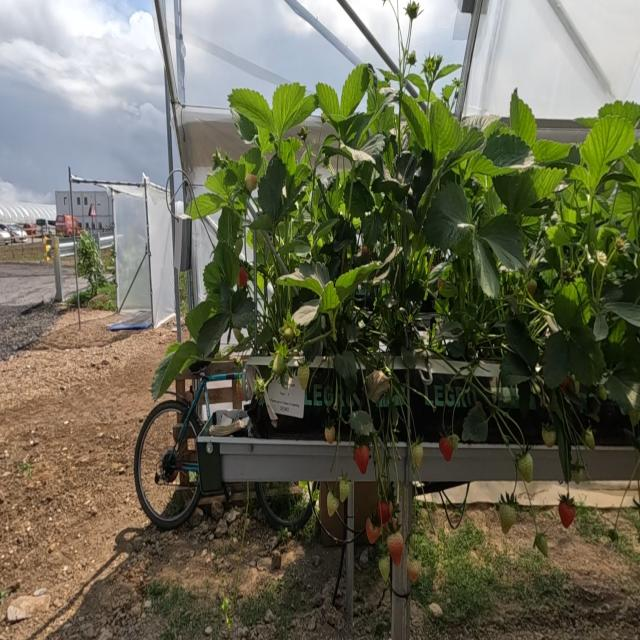Flowers: (616, 237, 629, 251), (597, 251, 607, 266)
Leaves: (580, 117, 635, 181), (493, 166, 565, 214), (424, 181, 470, 249), (275, 262, 339, 309), (151, 340, 197, 399), (478, 214, 526, 270), (422, 100, 458, 162), (568, 324, 604, 386), (228, 88, 273, 135), (272, 82, 305, 139), (258, 156, 286, 222), (400, 92, 431, 151), (542, 331, 574, 388), (472, 234, 500, 298), (483, 134, 534, 168), (340, 64, 371, 117), (552, 283, 586, 331), (509, 89, 536, 148), (335, 265, 379, 299), (197, 312, 227, 356), (446, 129, 484, 163), (205, 169, 237, 209), (213, 241, 239, 287), (185, 193, 227, 220), (598, 100, 640, 127), (186, 300, 214, 340), (462, 401, 488, 442), (500, 352, 532, 385), (333, 351, 357, 392), (604, 301, 640, 328), (531, 140, 573, 163), (271, 340, 292, 383), (290, 94, 318, 126), (232, 291, 254, 329), (350, 181, 373, 217), (365, 370, 390, 403), (203, 260, 222, 301), (316, 83, 341, 114), (373, 180, 408, 202), (421, 55, 443, 87), (361, 133, 386, 160), (558, 493, 576, 528), (349, 411, 374, 436), (292, 304, 319, 325), (387, 531, 403, 566), (499, 504, 516, 533), (517, 452, 533, 482), (354, 445, 370, 473), (345, 146, 374, 161), (405, 0, 422, 25), (593, 313, 608, 340), (366, 517, 381, 544), (410, 439, 423, 469), (439, 436, 453, 462), (534, 533, 549, 556), (327, 489, 339, 517), (297, 364, 309, 391), (378, 555, 390, 582), (339, 478, 351, 503), (542, 427, 556, 447), (583, 427, 595, 449), (245, 173, 257, 192), (324, 424, 335, 444), (238, 267, 248, 287), (527, 279, 537, 296), (283, 326, 294, 340), (408, 51, 417, 66)
Strawberries: (377, 500, 391, 525)
